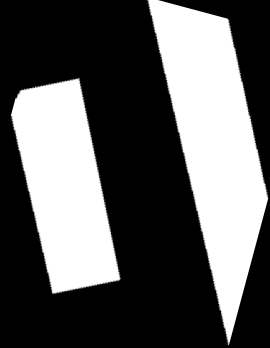parkingspot: (148, 0, 268, 345), (11, 78, 121, 294)
